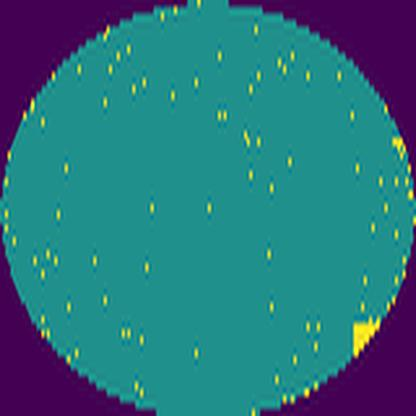Edge-Loc: (353, 323, 380, 361)
